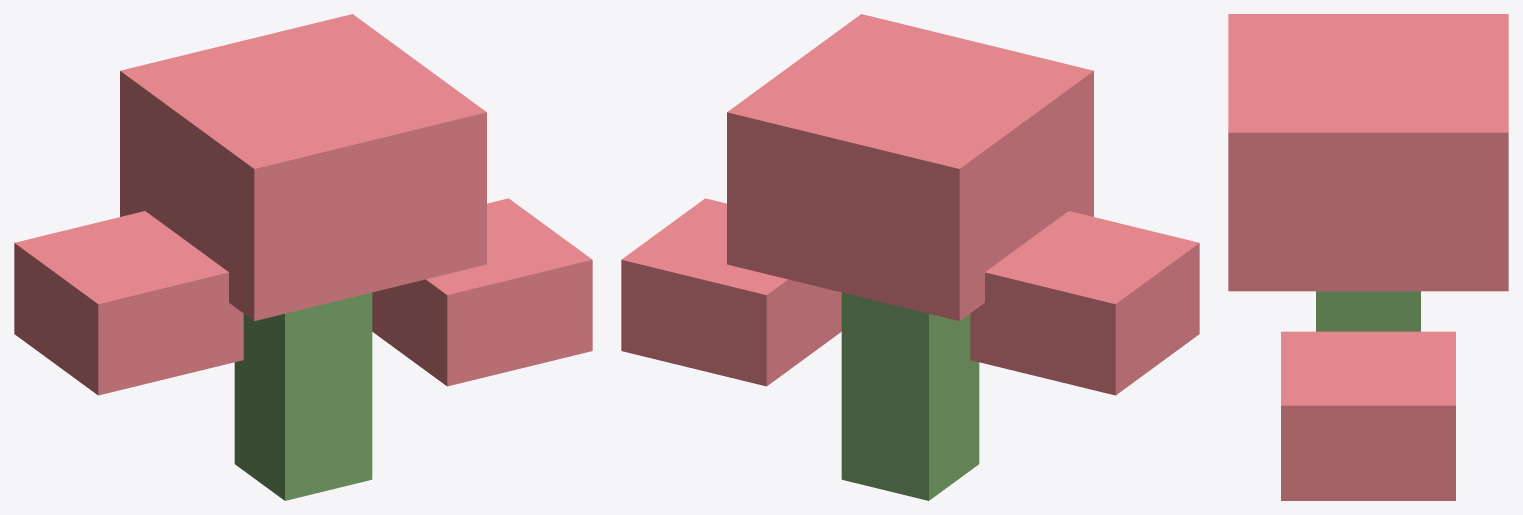
Rendered from Prop_DS_Herb_ZipVine_S1_V1.glb.
The picture shows the model from 3 angles, left to right: view 1: azimuth 30°, elevation 25°; view 2: azimuth 150°, elevation 25°; view 3: azimuth 270°, elevation 25°; orthographic projection. The views are drawn at different scales.
Visible parts, largest first — view 1: Cube.003, Cube.002, Cube.001, Cube; view 2: Cube.003, Cube.002, Cube.001, Cube; view 3: Cube.003, Cube.001, Cube.
Part boxes in pixels (left/top/right/bottom): Cube.003: left=120, top=14, right=486, bottom=320; Cube.002: left=14, top=211, right=243, bottom=395; Cube.001: left=372, top=198, right=592, bottom=386; Cube: left=234, top=292, right=372, bottom=500; Cube.003: left=727, top=14, right=1093, bottom=320; Cube.002: left=970, top=211, right=1199, bottom=395; Cube.001: left=621, top=198, right=841, bottom=386; Cube: left=841, top=292, right=979, bottom=500; Cube.003: left=1228, top=14, right=1508, bottom=291; Cube.001: left=1281, top=331, right=1455, bottom=500; Cube: left=1316, top=291, right=1420, bottom=331.
Size of the model in its own units: 0.34 by 0.25 by 0.16.
